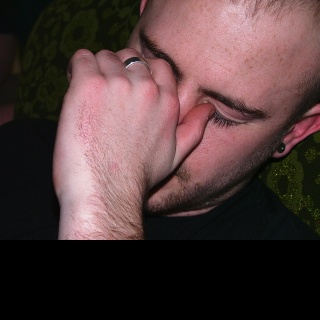without_mask: (124, 0, 320, 217)
